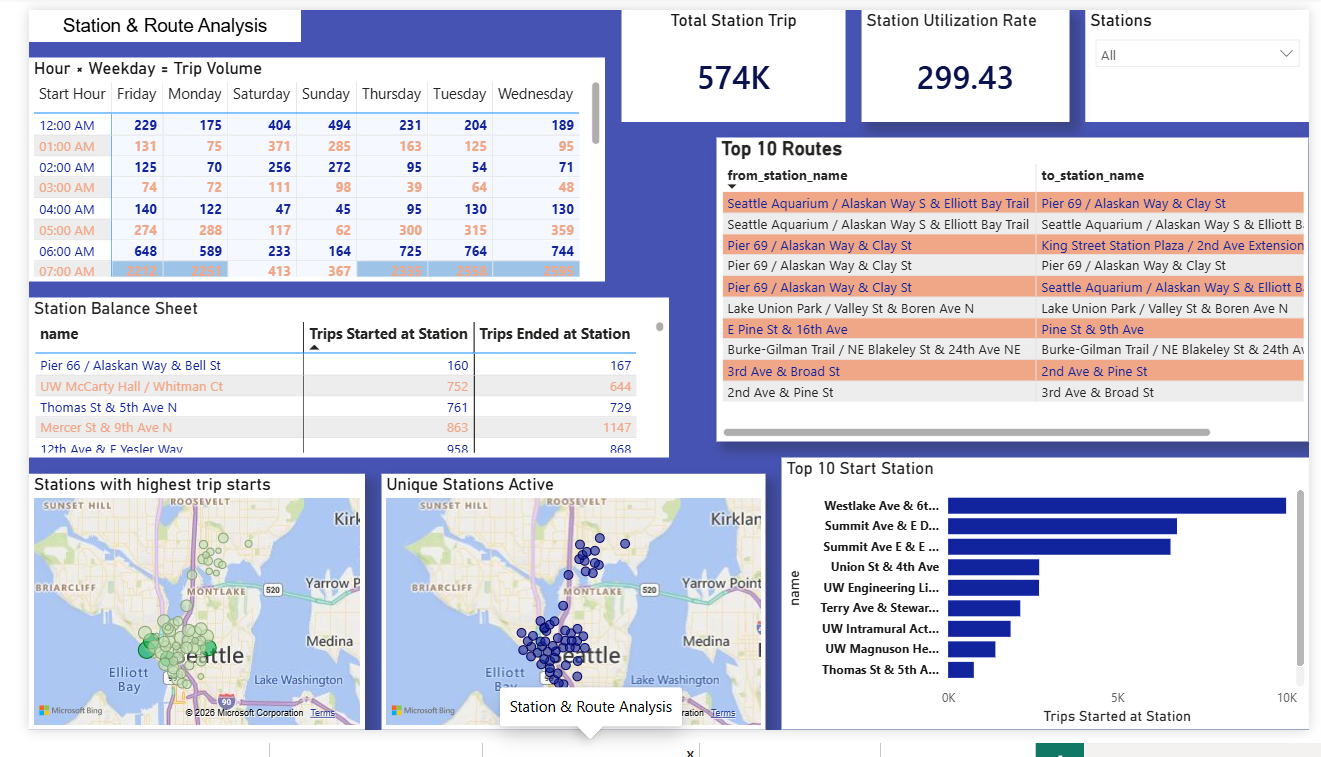

Layout of this report page (visuals, bound fields, positions):
{"tool":"powerbi","page":{"name":"Station & Route Analysis","canvas":[1280,720],"ordinal":2},"visuals":[{"type":"textbox","box":[0,0,272,32],"z":0},{"type":"slicer","title":"Stations","fields":{"Values":["station (2).name"]},"box":[1056,0,224,112],"z":1},{"type":"map","title":"Unique Stations Active","fields":{"Size":["Meas.Unique Stations Active"],"Y":["station (2).lat"],"X":["station (2).long"]},"box":[352,464,384,256],"z":2},{"type":"cardVisual","title":"Station Utilization Rate","fields":{"Data":["Meas.Station Utilization Rate"]},"box":[832,0,208,112],"z":3},{"type":"tableEx","title":"Top 10 Routes","fields":{"Values":["trip.from_station_name","trip.to_station_name"]},"box":[688,128,592,304],"z":4},{"type":"map","title":"Stations with highest trip starts","fields":{"Size":["Time Measures.Trips Started at Station"],"Y":["station (2).lat"],"X":["station (2).long"]},"box":[0,464,336,256],"z":5},{"type":"clusteredBarChart","title":"Top 10 Start Station","fields":{"Y":["Time Measures.Trips Started at Station"],"Category":["station (2).name"]},"box":[752,448,528,272],"z":6},{"type":"pivotTable","title":"Hour × Weekday = Trip Volume","fields":{"Rows":["trip.Start  Hour"],"Columns":["trip.Weekday Name"],"Values":["Meas.Total Trips"]},"box":[0,48,576,224],"z":7},{"type":"tableEx","title":"Station Balance Sheet","fields":{"Values":["station (2).name","Time Measures.Trips Started at Station","Time Measures.Trips Ended at Station"]},"box":[0,288,640,160],"z":8},{"type":"cardVisual","title":"Total Station Trip","fields":{"Data":["Time Measures.Total Station Activity"]},"box":[592,0,224,112],"z":9}]}

Visuals, with their boxes in screenshot pixels (x1, y1, x2, y2), scaled from the page's 1280x720 canvas onto the 1321x757 screenshot:
textbox: bbox=(0, 0, 281, 34)
"Stations" slicer: bbox=(1090, 0, 1320, 118)
"Unique Stations Active" map: bbox=(363, 488, 760, 756)
"Station Utilization Rate" cardVisual: bbox=(859, 0, 1073, 118)
"Top 10 Routes" tableEx: bbox=(710, 135, 1320, 454)
"Stations with highest trip starts" map: bbox=(0, 488, 347, 756)
"Top 10 Start Station" clusteredBarChart: bbox=(776, 471, 1320, 756)
"Hour × Weekday = Trip Volume" pivotTable: bbox=(0, 50, 594, 286)
"Station Balance Sheet" tableEx: bbox=(0, 303, 660, 471)
"Total Station Trip" cardVisual: bbox=(611, 0, 842, 118)
